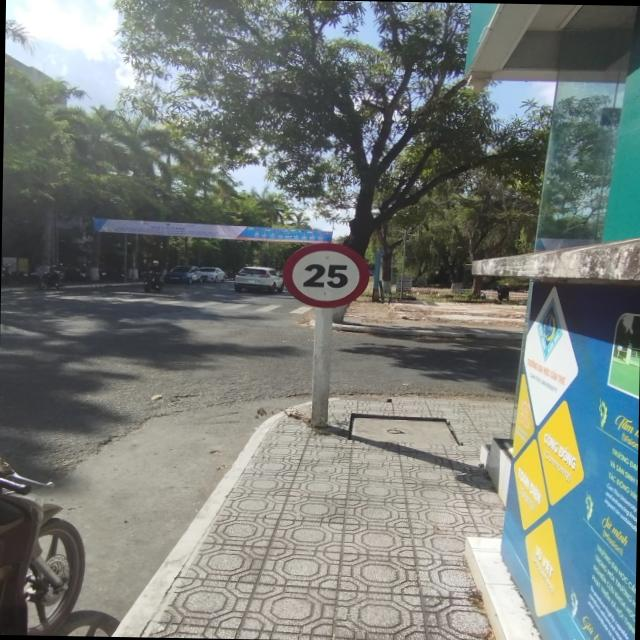Tre_Em: (280, 240, 371, 310)
